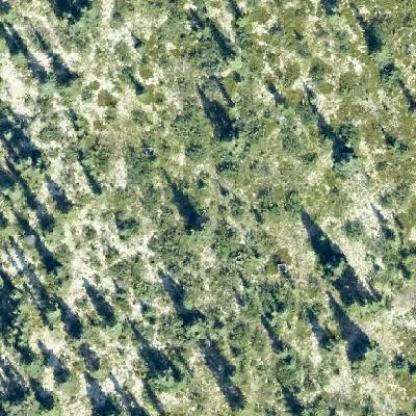tree-top: (62, 1, 97, 28), (149, 361, 180, 391), (55, 67, 83, 98), (318, 251, 346, 280), (350, 336, 378, 365), (330, 146, 358, 172), (186, 212, 213, 235), (40, 298, 67, 320), (368, 37, 390, 64), (18, 350, 44, 372), (215, 124, 239, 146), (7, 43, 28, 68), (102, 313, 124, 335), (85, 360, 108, 380), (181, 313, 201, 334)
